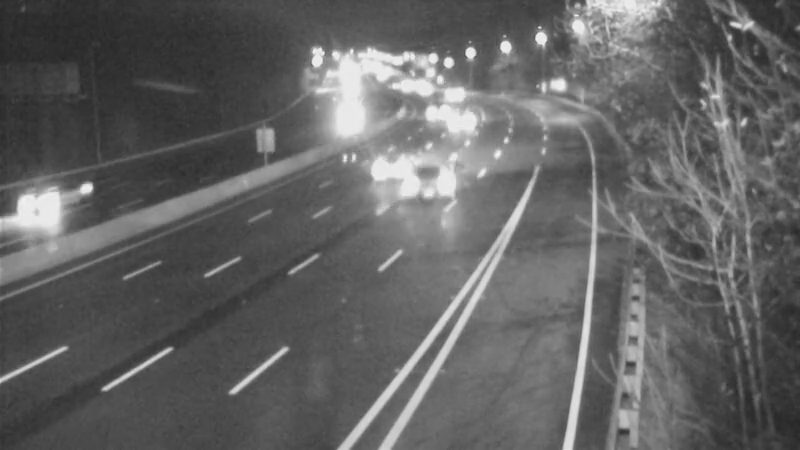vehicle: (349, 123, 429, 203), (393, 143, 473, 223), (4, 167, 84, 247), (378, 59, 428, 109), (427, 69, 477, 119), (404, 86, 454, 136), (430, 103, 480, 153), (326, 90, 376, 140)
